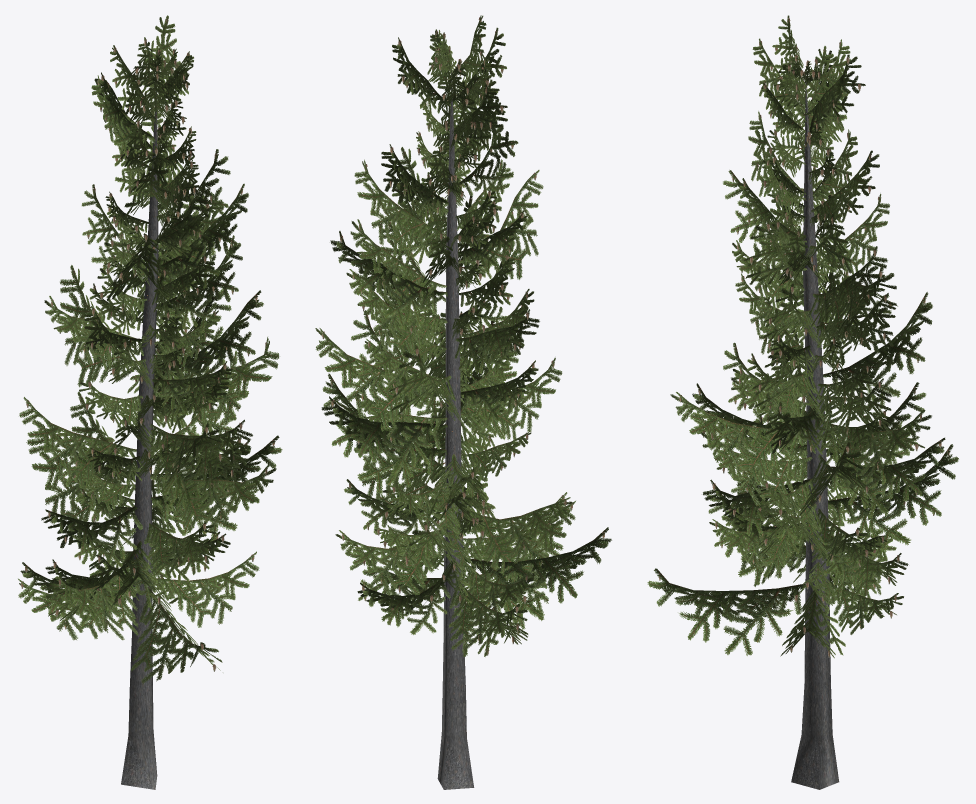
Rendered from Pinus_Contorta_Spring_Adult.glb.
3 renders of one model, left to right at view 1: azimuth 30°, elevation 25°; view 2: azimuth 150°, elevation 25°; view 3: azimuth 270°, elevation 25°, orthographic.
Parts seen in each view (by area): view 1: Pinus_Contorta_Spring_Adult__LOD3; view 2: Pinus_Contorta_Spring_Adult__LOD3; view 3: Pinus_Contorta_Spring_Adult__LOD3.
Boxes of the visible parts, <box> form: Pinus_Contorta_Spring_Adult__LOD3: <box>18,15,282,789</box>; Pinus_Contorta_Spring_Adult__LOD3: <box>315,15,611,789</box>; Pinus_Contorta_Spring_Adult__LOD3: <box>647,15,958,789</box>.
Bounding box in the file's own units: 14.86 × 43.04 × 16.25.
Materials: 3 (3 with a texture image).
